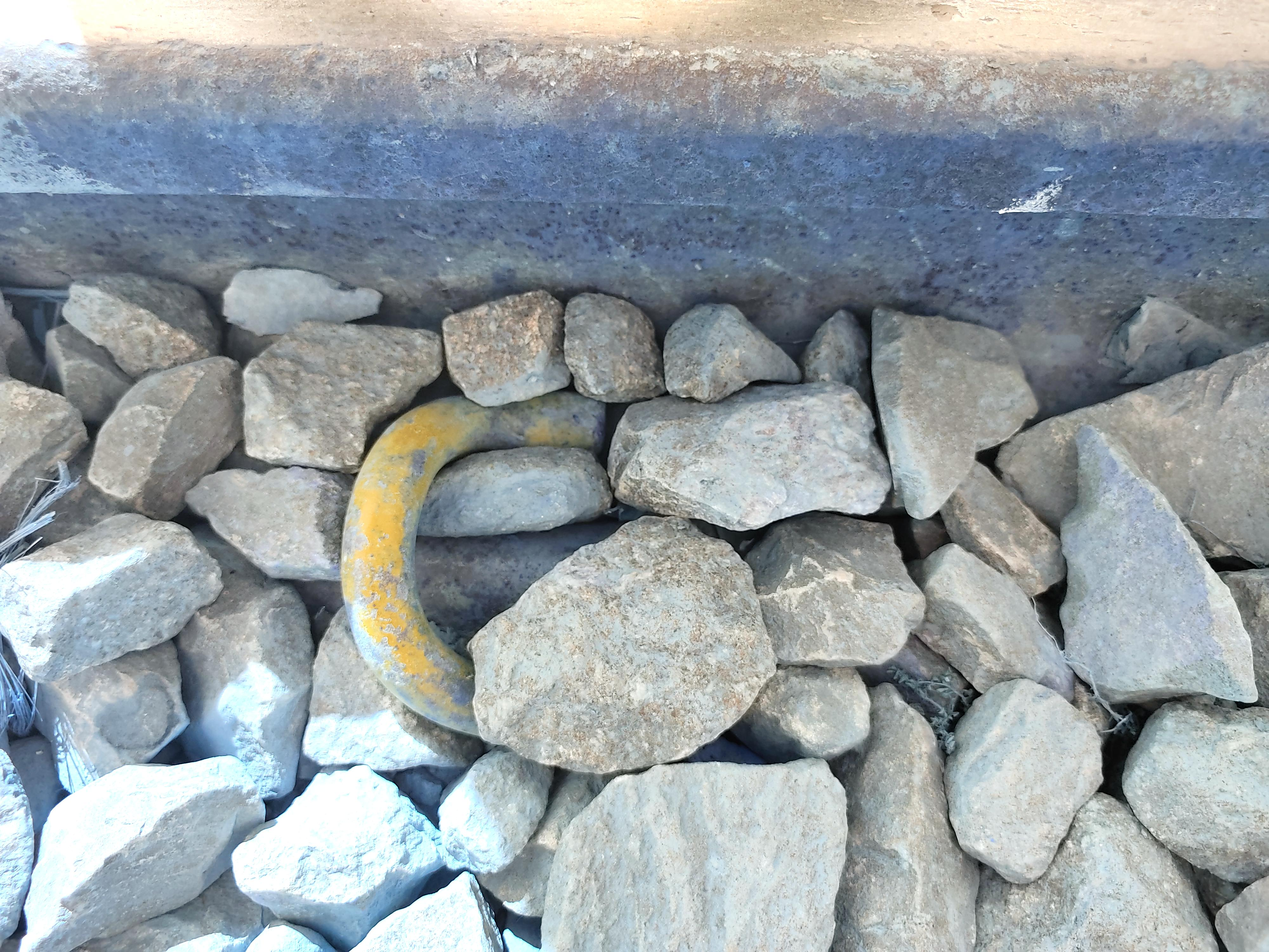Poor contact: (312, 368, 610, 739)
